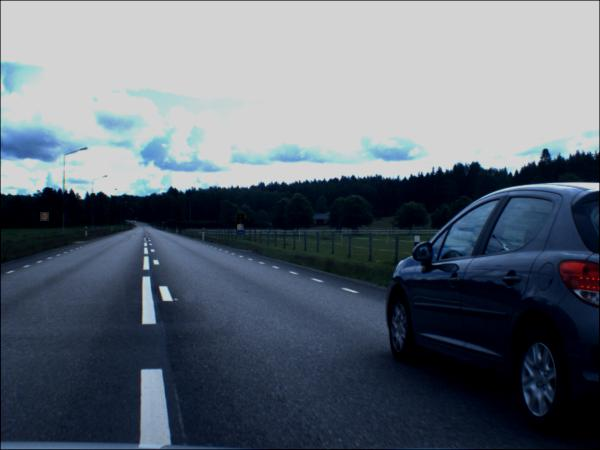80_SIGN: (41, 213, 51, 223), (238, 215, 246, 224)
PRIORITY_ROAD: (239, 225, 247, 232)
